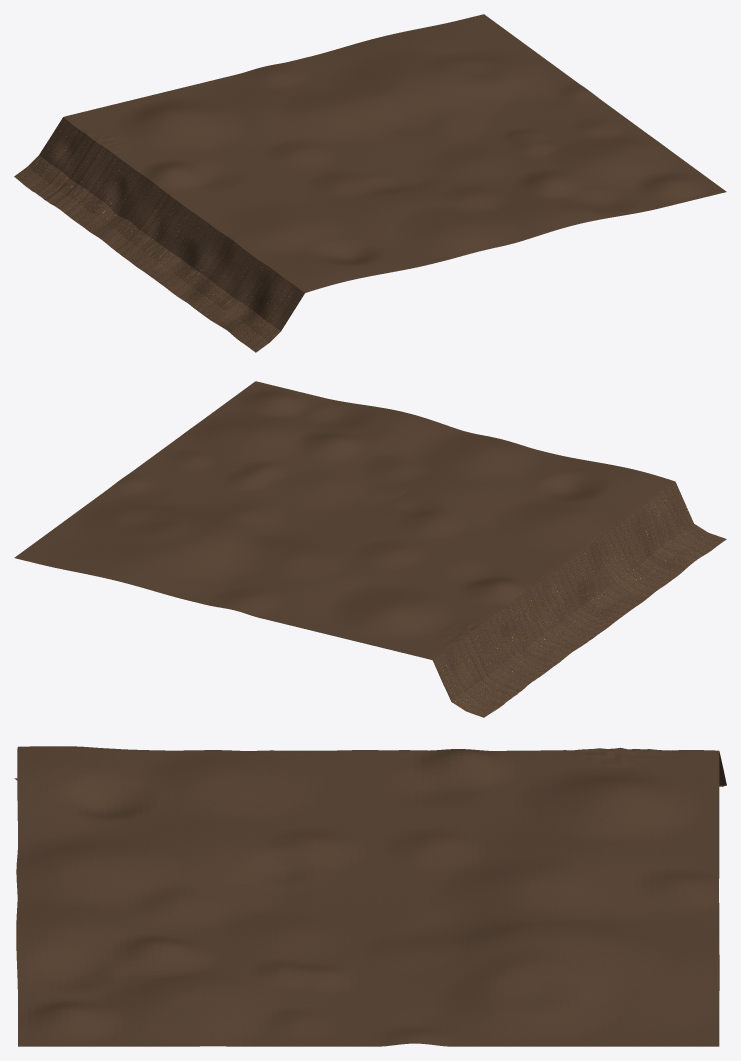
Rendered from base_sentiero_2.fbx.
The picture shows the model from 3 angles, top to bottom: view 1: azimuth 30°, elevation 25°; view 2: azimuth 150°, elevation 25°; view 3: azimuth 270°, elevation 25°; orthographic projection. The views are drawn at different scales.
Parts seen in each view (by area): view 1: Plane; view 2: Plane; view 3: Plane.
Boxes of the visible parts, bbox=[...] form: Plane: bbox=[14, 14, 726, 352]; Plane: bbox=[14, 381, 726, 717]; Plane: bbox=[14, 746, 726, 1046].
Bounding box in the file's own units: 3961 × 461 × 3582.
